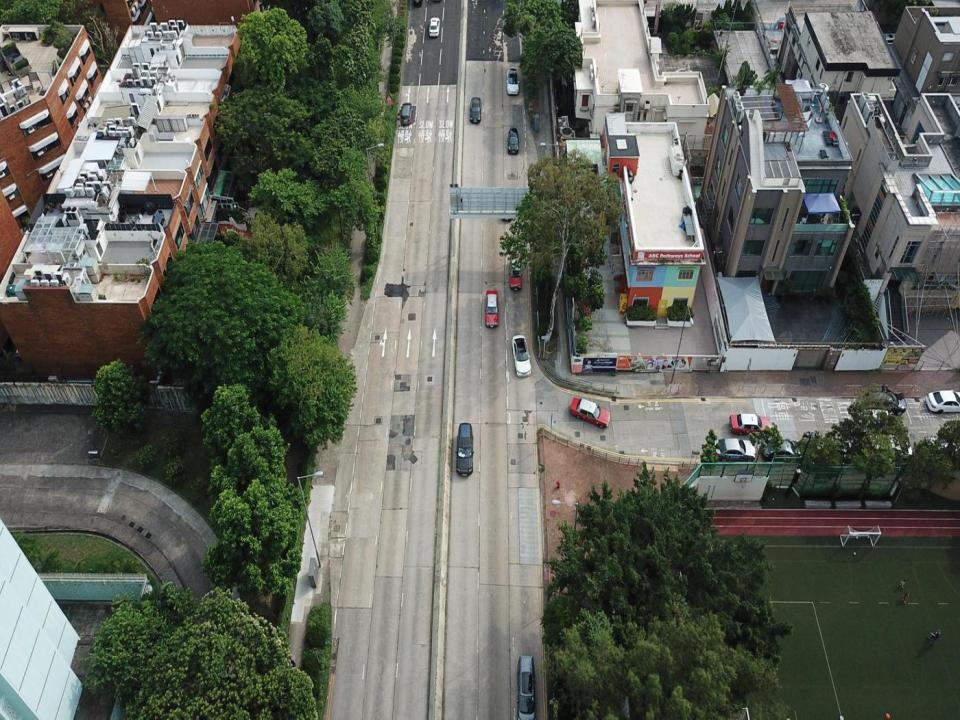car: (858, 431, 914, 460), (703, 438, 757, 462), (569, 398, 611, 428), (757, 437, 804, 461), (511, 334, 531, 378), (729, 414, 775, 433), (926, 389, 960, 413), (484, 290, 499, 328), (509, 253, 523, 292), (469, 96, 481, 124), (507, 126, 519, 153), (507, 67, 519, 92), (428, 16, 440, 38)
van: (808, 435, 860, 466), (517, 655, 536, 719), (457, 421, 474, 476), (866, 391, 906, 413), (400, 102, 411, 126)
